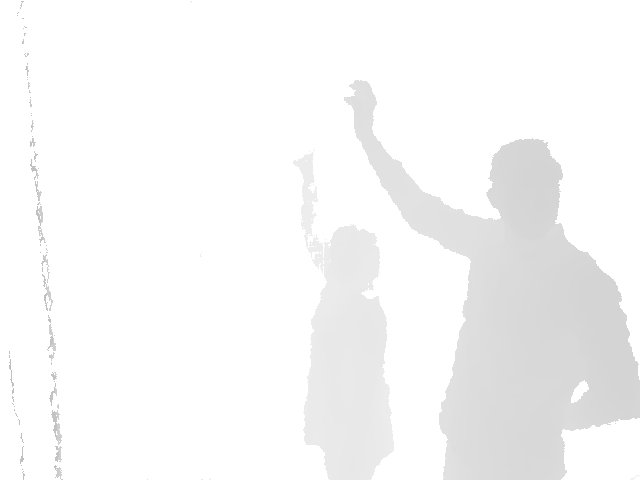hand: (343, 78, 377, 135), (291, 150, 315, 176)
head: (486, 138, 564, 244), (323, 224, 382, 290)
person: (343, 78, 640, 480), (291, 149, 396, 480)
